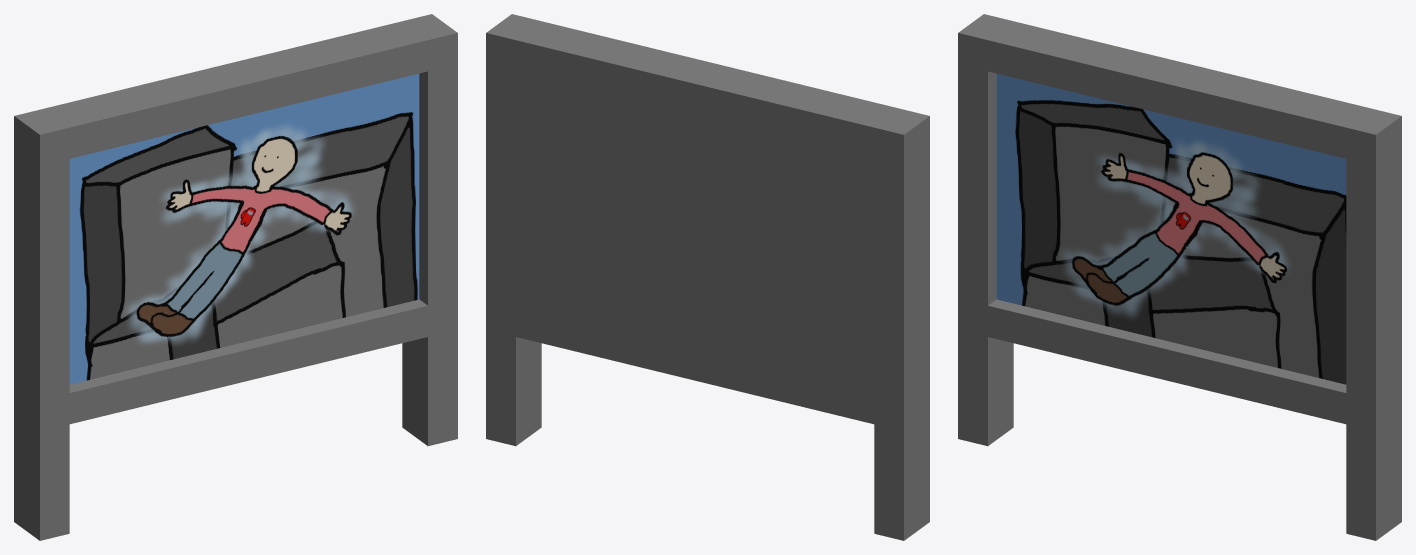
The model's file is board.gltf.
3 renders of one model, left to right at view 1: azimuth 30°, elevation 25°; view 2: azimuth 150°, elevation 25°; view 3: azimuth 330°, elevation 25°, orthographic.
Parts seen in each view (by area): view 1: Board; view 2: Board; view 3: Board.
Boxes of the visible parts, left/top/right/bottom form: Board: left=14, top=14, right=457, bottom=540; Board: left=486, top=14, right=929, bottom=540; Board: left=958, top=14, right=1401, bottom=540.
Size of the model in its own units: 2.8 by 2.6 by 0.3.
Materials: 1 (1 with a texture image).
